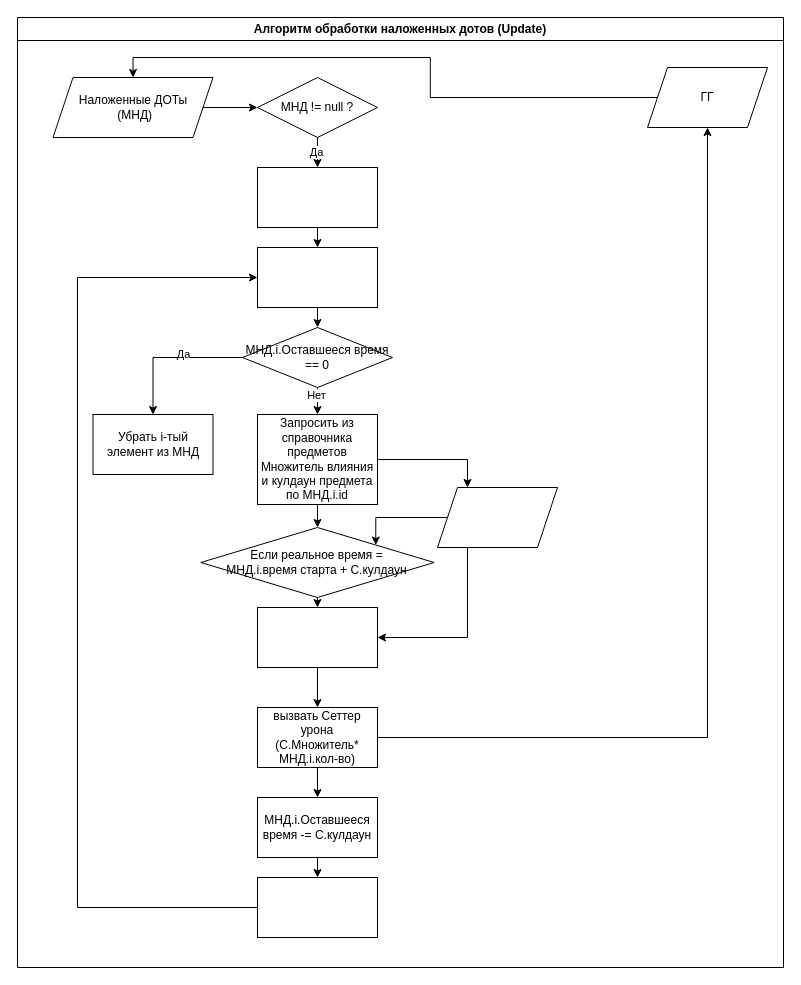
The diagram is 801 pixels wide and 985 high, and some of its shapes have lost their labels. Here are the shapes that lost their labels. From the top down, the box of each, then its label:
(256, 166, 378, 228): int i = 0
(256, 246, 378, 308): Вызвать i-тый элемент МНД
(436, 486, 558, 548): С.Множитель С.Кулдаун
(256, 606, 378, 668): МНД.i.время старта = Реальное время
(256, 876, 378, 938): i++
